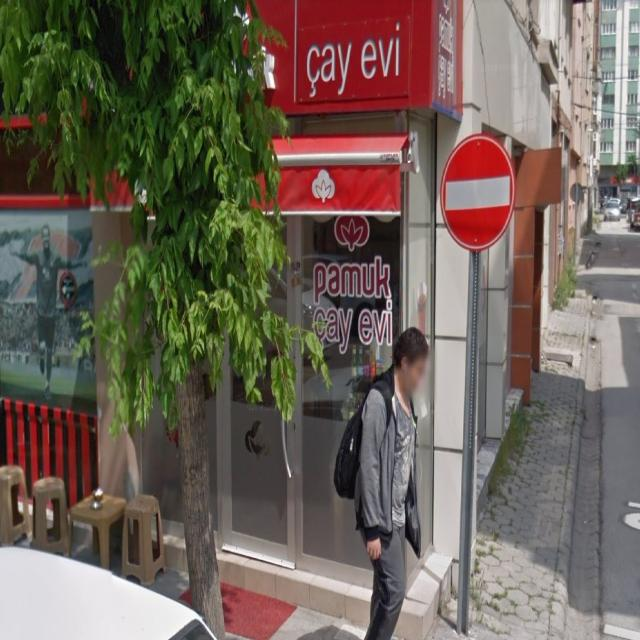girisyok: (440, 134, 515, 252)
